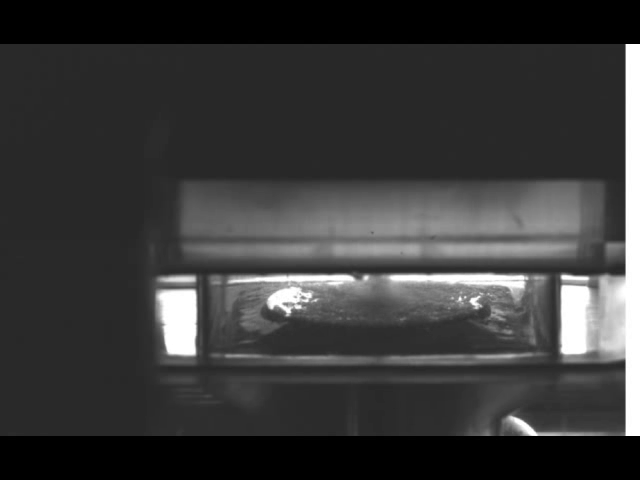Zona de teste: (264, 280, 494, 328)
